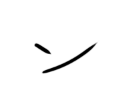n: (30, 34, 101, 77)
